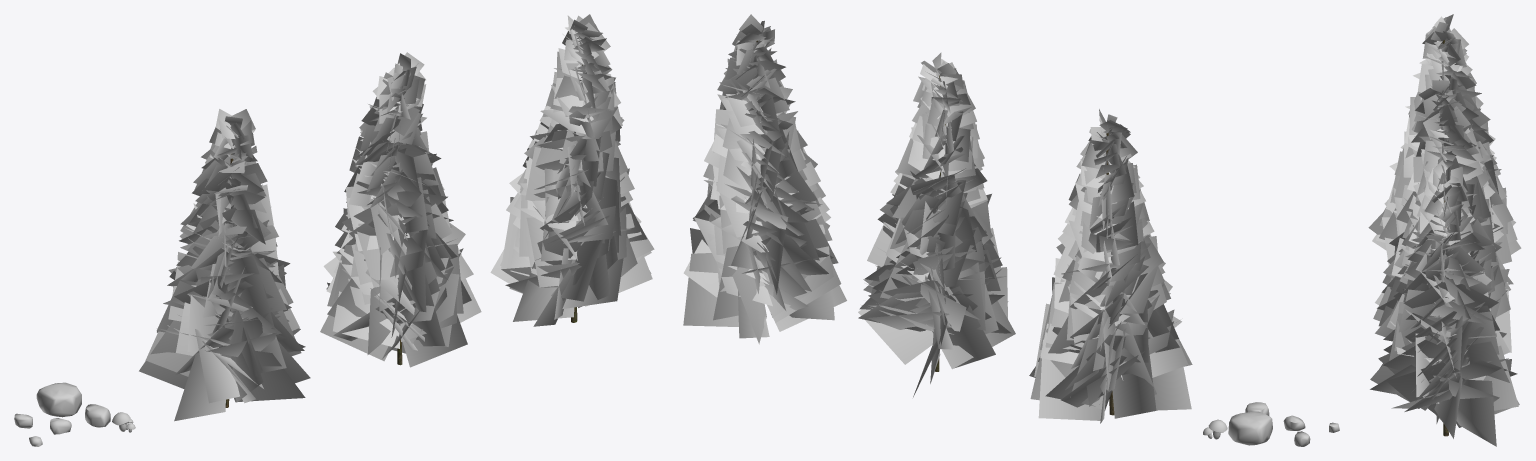
File: A_props.fbx
3 views of the same model, side by side, from view 1: azimuth 30°, elevation 25°; view 2: azimuth 150°, elevation 25°; view 3: azimuth 270°, elevation 25° (orthographic). The views are drawn at different scales.
Visible parts, largest first — view 1: Object_8, Object_5, Object_11, smallrock5_smallrocks_0; view 2: Object_11, Object_5, Object_8, smallrock5_smallrocks_0; view 3: Object_11, Object_8, Object_5.
Boxes of the visible parts, bbox=[...] form: Object_8: bbox=[320, 52, 481, 367]; Object_5: bbox=[139, 109, 310, 421]; Object_11: bbox=[490, 14, 654, 326]; smallrock5_smallrocks_0: bbox=[36, 382, 81, 417]; Object_11: bbox=[683, 14, 846, 344]; Object_5: bbox=[1029, 109, 1192, 423]; Object_8: bbox=[858, 52, 1015, 397]; smallrock5_smallrocks_0: bbox=[1228, 411, 1272, 445]; Object_11: bbox=[1370, 160, 1519, 446]; Object_8: bbox=[1373, 79, 1511, 352]; Object_5: bbox=[1368, 14, 1521, 284].
Bounding box in the file's own units: 357 × 172 × 84.22.
